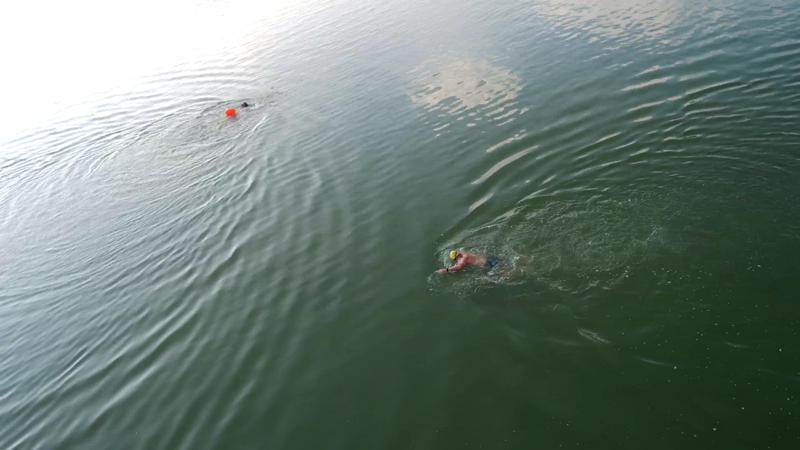swimmers: (433, 248, 504, 276)
